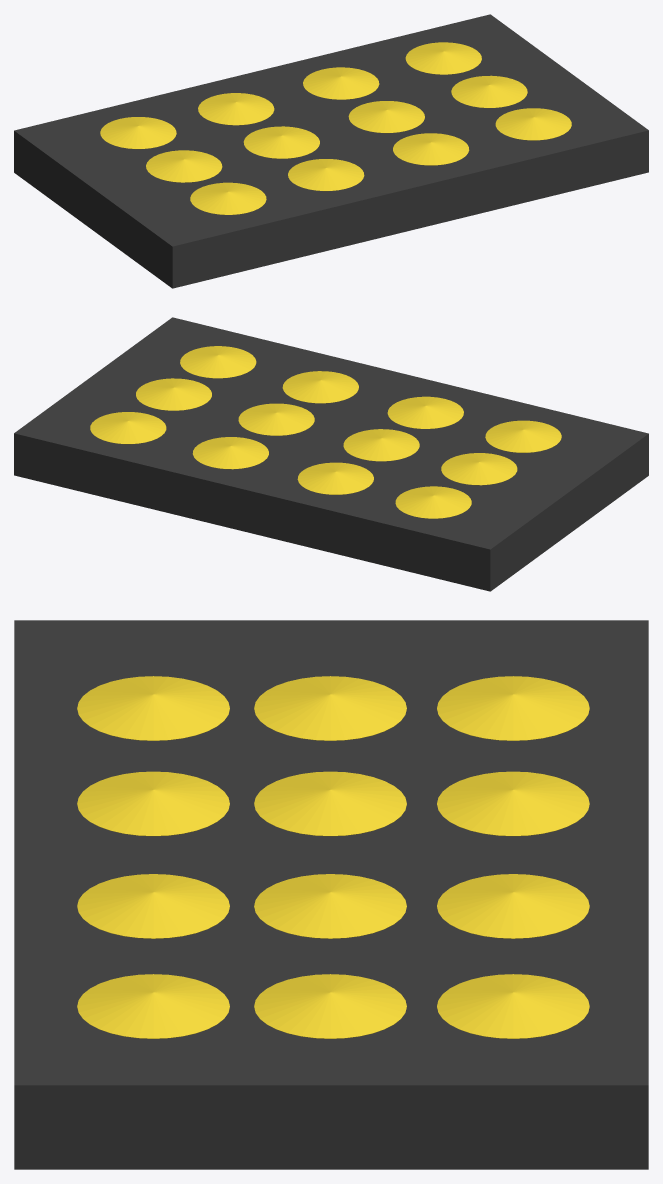
The model's file is Baking Pan.fbx.
3 renders of one model, top to bottom at view 1: azimuth 30°, elevation 25°; view 2: azimuth 150°, elevation 25°; view 3: azimuth 270°, elevation 25°, orthographic. The views are drawn at different scales.
Visible parts, largest first — view 1: 立方体, 球体.003, 球体.010, 球体.002, 球体, 球体.007, 球体.001, 球体.005, 球体.008, 球体.009, 球体.011, 球体.004 (+1 smaller); view 2: 立方体, 球体, 球体.007, 球体.009, 球体.010, 球体.001, 球体.002, 球体.004, 球体.011, 球体.003, 球体.005, 球体.008 (+1 smaller); view 3: 立方体, 球体, 球体.001, 球体.009, 球体.010, 球体.005, 球体.006, 球体.002, 球体.011, 球体.003, 球体.004, 球体.008 (+1 smaller).
Boxes of the visible parts, bbox=[...] form: 立方体: bbox=[14, 14, 648, 288]; 球体.003: bbox=[393, 133, 469, 165]; 球体.010: bbox=[146, 150, 222, 182]; 球体.002: bbox=[405, 42, 481, 74]; 球体: bbox=[495, 108, 571, 140]; 球体.007: bbox=[243, 126, 319, 158]; 球体.001: bbox=[451, 75, 527, 108]; 球体.005: bbox=[303, 67, 379, 99]; 球体.008: bbox=[198, 93, 274, 125]; 球体.009: bbox=[190, 182, 266, 214]; 球体.011: bbox=[100, 117, 176, 149]; 球体.004: bbox=[348, 101, 424, 133]; 立方体: bbox=[14, 317, 648, 591]; 球体: bbox=[180, 346, 256, 378]; 球体.007: bbox=[343, 429, 419, 461]; 球体.009: bbox=[485, 420, 561, 452]; 球体.010: bbox=[441, 453, 517, 485]; 球体.001: bbox=[136, 378, 211, 410]; 球体.002: bbox=[90, 412, 166, 444]; 球体.004: bbox=[238, 403, 314, 435]; 球体.011: bbox=[395, 486, 471, 518]; 球体.003: bbox=[282, 371, 358, 403]; 球体.005: bbox=[192, 437, 268, 469]; 球体.008: bbox=[297, 462, 373, 494]; 立方体: bbox=[14, 620, 648, 1169]; 球体: bbox=[77, 974, 229, 1038]; 球体.001: bbox=[254, 974, 406, 1038]; 球体.009: bbox=[77, 676, 229, 740]; 球体.010: bbox=[254, 676, 406, 740]; 球体.005: bbox=[437, 874, 589, 938]; 球体.006: bbox=[77, 771, 229, 836]; 球体.002: bbox=[437, 974, 589, 1038]; 球体.011: bbox=[437, 676, 589, 740]; 球体.003: bbox=[77, 874, 229, 938]; 球体.004: bbox=[254, 874, 406, 938]; 球体.008: bbox=[437, 771, 589, 836].
Bounding box in the file's own units: 138 × 13.66 × 79.54.
